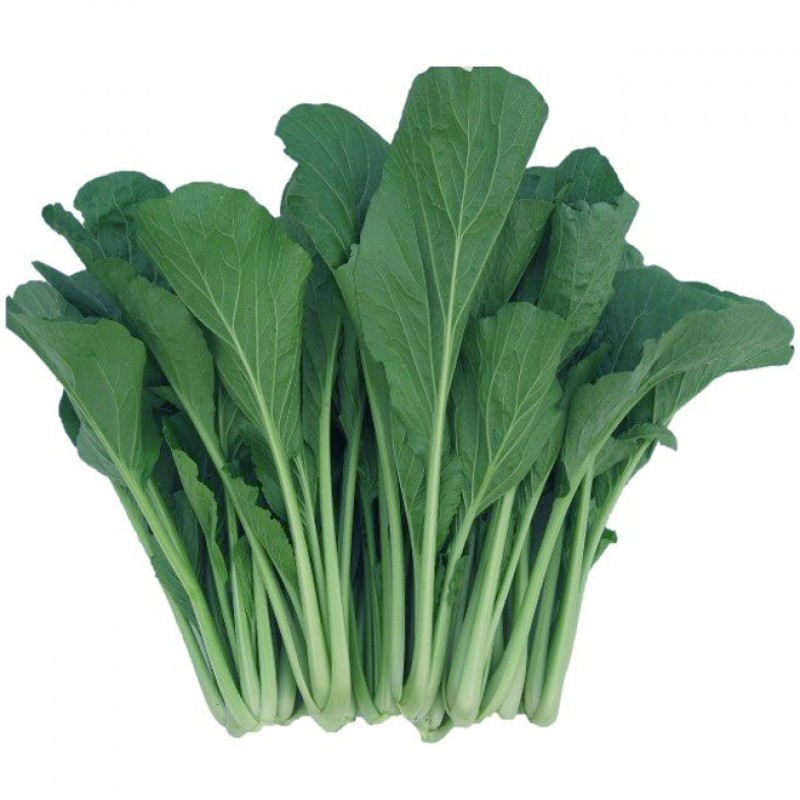Sawi: (44, 51, 715, 744)
